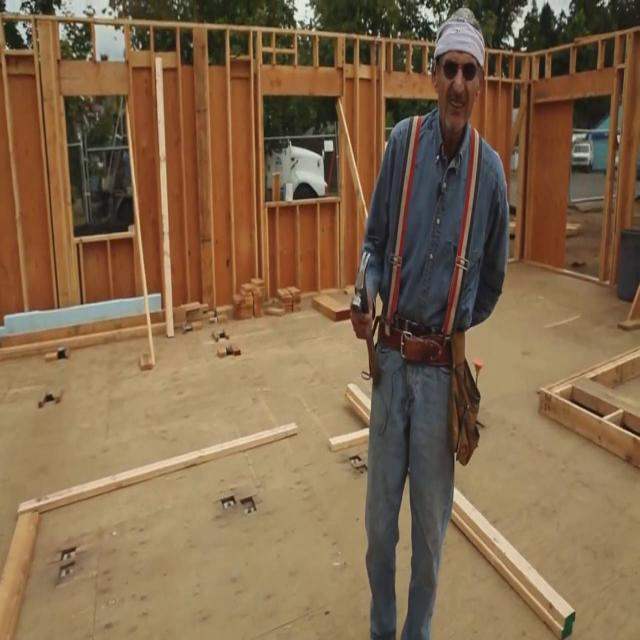hammer: (352, 251, 381, 381)
